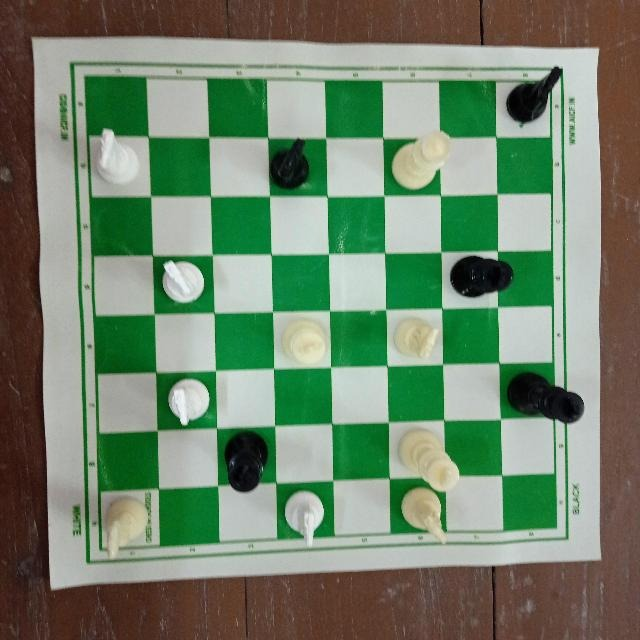black-king: (503, 368, 592, 426), (218, 425, 273, 497), (446, 251, 518, 297)
black-knight: (504, 57, 570, 132), (264, 133, 315, 193)
white-king: (396, 429, 462, 493), (277, 315, 331, 367)
white-knight: (96, 493, 154, 562), (399, 484, 451, 552), (90, 125, 139, 188), (161, 376, 213, 428), (282, 488, 324, 552), (158, 251, 208, 303), (391, 314, 441, 366)
white-queen: (390, 125, 456, 196)
